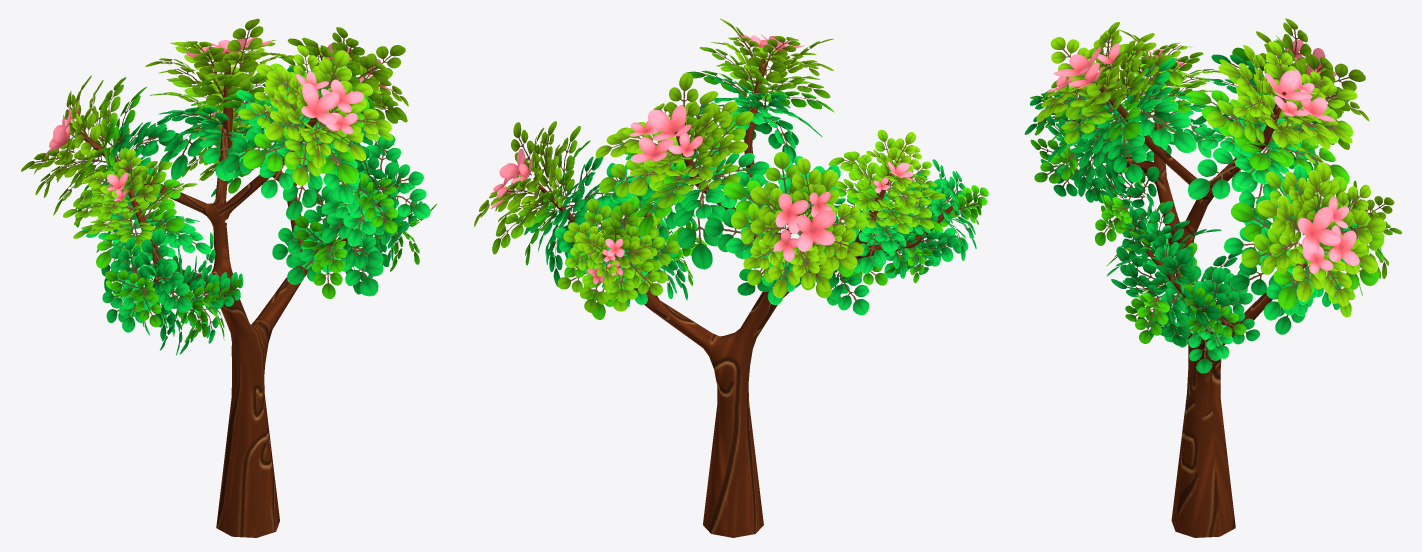
File: Tree_1.glb
The picture shows the model from 3 angles, left to right: view 1: azimuth 30°, elevation 25°; view 2: azimuth 150°, elevation 25°; view 3: azimuth 270°, elevation 25°; orthographic projection. The views are drawn at different scales.
Parts seen in each view (by area): view 1: TRS2; view 2: TRS2; view 3: TRS2.
Boxes of the visible parts, x1=… form: TRS2: x1=21, y1=18, x2=436, y2=537; TRS2: x1=474, y1=18, x2=988, y2=537; TRS2: x1=1024, y1=18, x2=1401, y2=537.
Size of the model in its own units: 6.49 by 7.43 by 5.24.
1 material, 1 textured.
